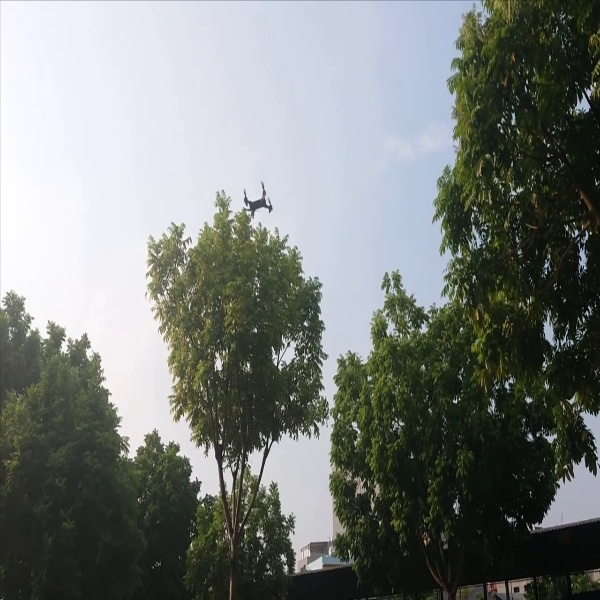drone: (238, 179, 276, 226)
